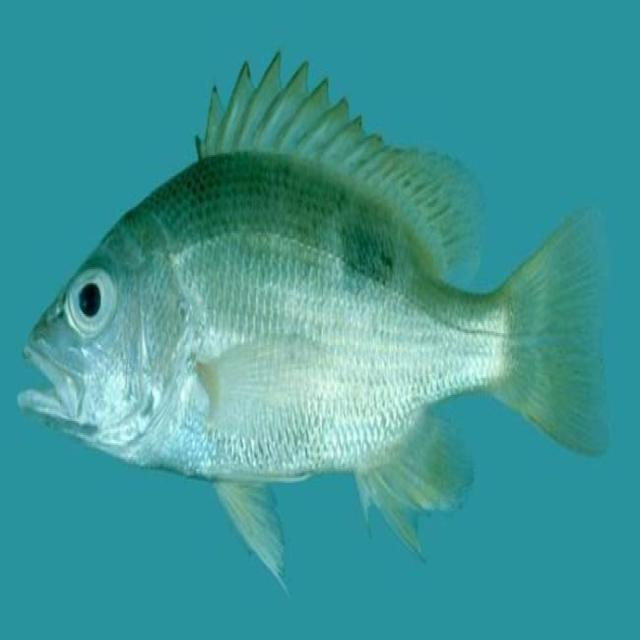ikan: (16, 48, 608, 595)
